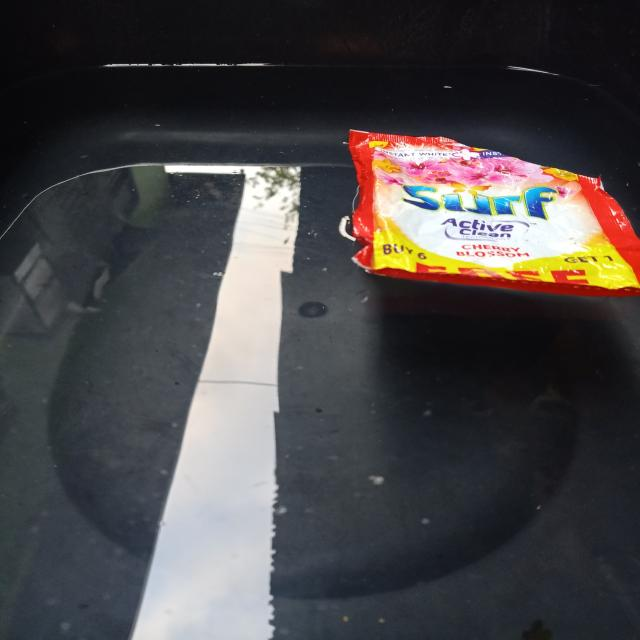Plastic Wrapper: (349, 131, 640, 295)
